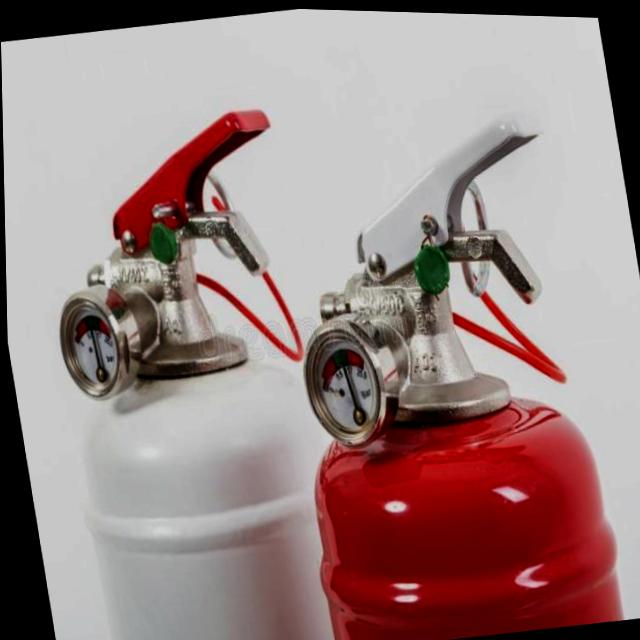FireExtinguisher: (243, 91, 629, 640), (10, 92, 367, 640)
